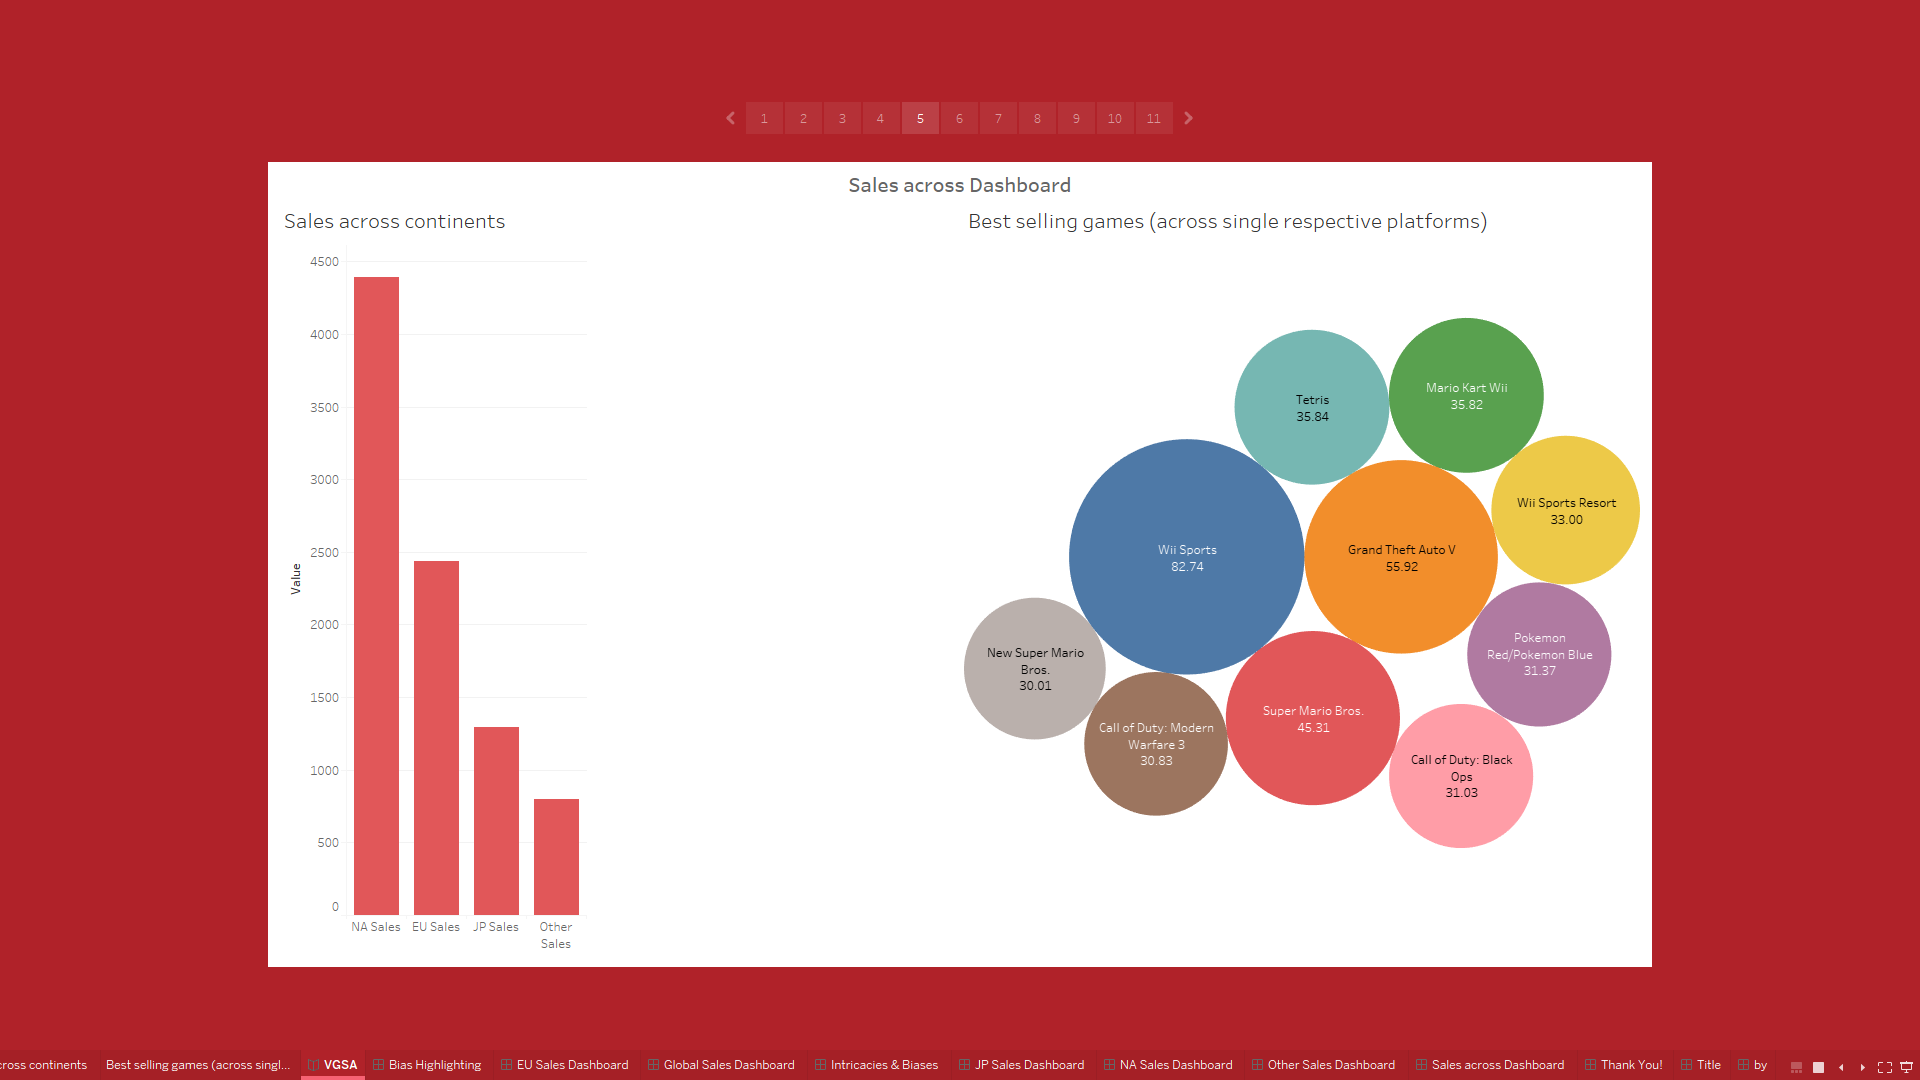

The page's visual inventory and layout, read from the dashboard file:
{"tool":"tableau","page":{"name":"Sales across Dashboard","canvas":[1000,1000],"units":"permille","ordinal":7},"visuals":[{"type":"text","box":[4.7,8.8,990.6,35.4]},{"type":"worksheet","title":"Sales across continents","mark":"Automatic","box":[4.7,44.2,495.3,946.9]},{"type":"worksheet","title":"Best selling games (across single respective platforms)","mark":"Circle","box":[500,44.2,495.3,946.9]}]}

Visuals, with their boxes on the dashboard's canvas, which has no fixed pixel size, in thousandths of its width and height (x1, y1, x2, y2). These are canvas units, not pixel positions in the 1920x1080 screenshot, which may show the page scaled, cropped or inside an application window:
text: detection(5, 9, 995, 44)
"Sales across continents" worksheet: detection(5, 44, 500, 991)
"Best selling games (across single respective platforms)" worksheet (Circle marks): detection(500, 44, 995, 991)
